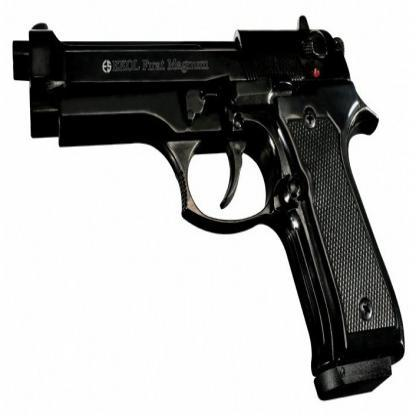gun: (4, 14, 407, 403)
